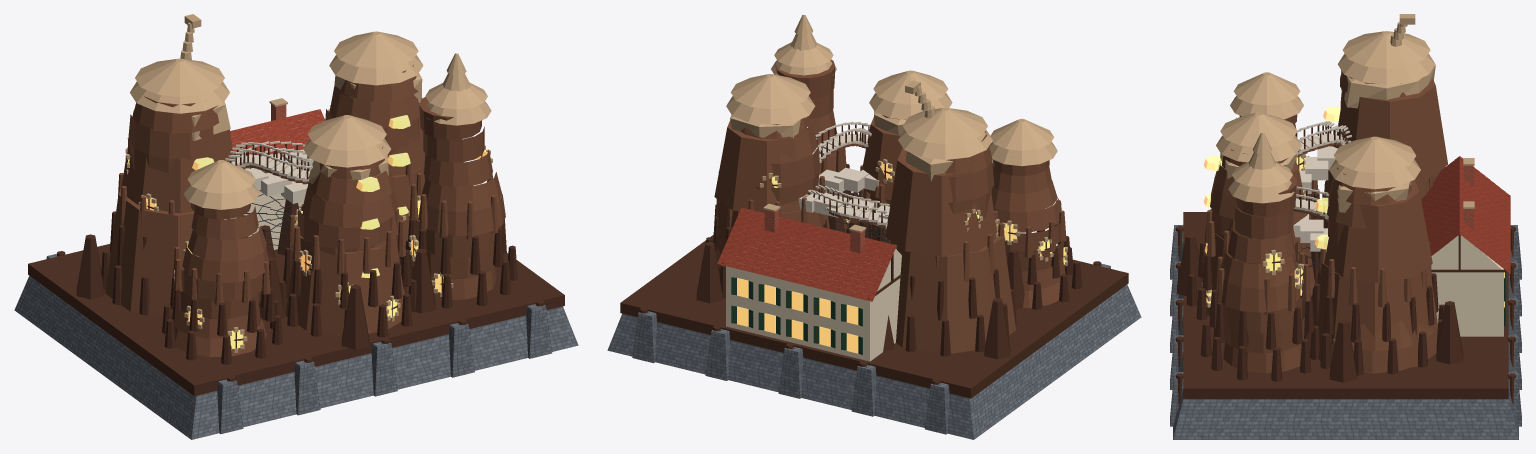
File: fv_ch_01_crazy_house_banyan_giraffe_organic_lod0.glb
3 renders of one model, left to right at view 1: azimuth 30°, elevation 25°; view 2: azimuth 150°, elevation 25°; view 3: azimuth 270°, elevation 25°, orthographic. The views are drawn at different scales.
Parts seen in each view (by area): view 1: Organic_TreeStump_Towers_LOD0, Gnarled_Banyan_Roots_And_Vines, Foundation_Skirt_Neg3p5m, Sculpted_Cave_Canopies_And_Crowns, Helical_SkyVine_Stair_Bridges, Warm_Night_Freeform_Windows_20h00_Blend, Normandy_FishScale_Layered_Roof, French_Heritage_Wing_Walls; view 2: Organic_TreeStump_Towers_LOD0, Gnarled_Banyan_Roots_And_Vines, Foundation_Skirt_Neg3p5m, Sculpted_Cave_Canopies_And_Crowns, Normandy_FishScale_Layered_Roof, French_Heritage_Wing_Walls, Helical_SkyVine_Stair_Bridges, Warm_Night_Freeform_Windows_20h00_Blend, PineGreen_Louvered_Shutters, Brick_Chimney_Stacks; view 3: Organic_TreeStump_Towers_LOD0, Gnarled_Banyan_Roots_And_Vines, Sculpted_Cave_Canopies_And_Crowns, Foundation_Skirt_Neg3p5m, Normandy_FishScale_Layered_Roof, French_Heritage_Wing_Walls, Helical_SkyVine_Stair_Bridges, Warm_Night_Freeform_Windows_20h00_Blend, Brick_Chimney_Stacks.
Part boxes in pixels (bbox=[...]): Organic_TreeStump_Towers_LOD0: bbox=[105, 65, 505, 357]; Gnarled_Banyan_Roots_And_Vines: bbox=[28, 143, 564, 396]; Foundation_Skirt_Neg3p5m: bbox=[14, 253, 578, 439]; Sculpted_Cave_Canopies_And_Crowns: bbox=[125, 14, 492, 352]; Helical_SkyVine_Stair_Bridges: bbox=[225, 140, 313, 203]; Warm_Night_Freeform_Windows_20h00_Blend: bbox=[128, 115, 487, 348]; Normandy_FishScale_Layered_Roof: bbox=[230, 109, 325, 171]; French_Heritage_Wing_Walls: bbox=[243, 192, 303, 249]; Organic_TreeStump_Towers_LOD0: bbox=[712, 59, 1069, 353]; Gnarled_Banyan_Roots_And_Vines: bbox=[620, 124, 1128, 398]; Foundation_Skirt_Neg3p5m: bbox=[607, 263, 1141, 439]; Sculpted_Cave_Canopies_And_Crowns: bbox=[726, 15, 1067, 265]; Normandy_FishScale_Layered_Roof: bbox=[717, 207, 896, 301]; French_Heritage_Wing_Walls: bbox=[726, 249, 901, 361]; Helical_SkyVine_Stair_Bridges: bbox=[798, 121, 889, 228]; Warm_Night_Freeform_Windows_20h00_Blend: bbox=[737, 127, 1066, 353]; PineGreen_Louvered_Shutters: bbox=[731, 277, 862, 354]; Brick_Chimney_Stacks: bbox=[764, 209, 864, 253]; Organic_TreeStump_Towers_LOD0: bbox=[1205, 55, 1448, 373]; Gnarled_Banyan_Roots_And_Vines: bbox=[1175, 124, 1516, 404]; Sculpted_Cave_Canopies_And_Crowns: bbox=[1202, 14, 1474, 341]; Foundation_Skirt_Neg3p5m: bbox=[1170, 225, 1521, 439]; Normandy_FishScale_Layered_Roof: bbox=[1421, 156, 1510, 273]; French_Heritage_Wing_Walls: bbox=[1431, 235, 1503, 336]; Helical_SkyVine_Stair_Bridges: bbox=[1293, 121, 1351, 252]; Warm_Night_Freeform_Windows_20h00_Blend: bbox=[1203, 107, 1504, 307]; Brick_Chimney_Stacks: bbox=[1464, 165, 1473, 229].
Size of the model in its own units: 37.6 by 28.26 by 30.3.
12 materials, 3 textured.
